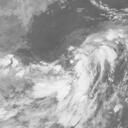cyclone: (43, 45, 117, 106)
